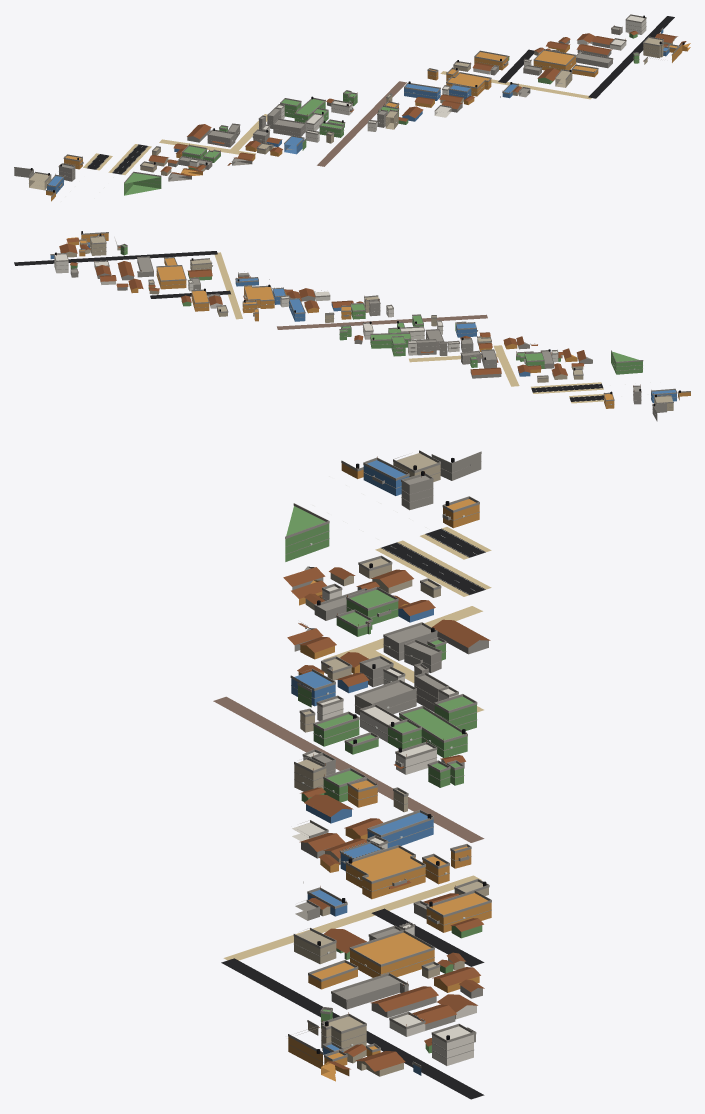
File: zone_t4_3.glb
3 views of the same model, one above another, from view 1: azimuth 30°, elevation 25°; view 2: azimuth 150°, elevation 25°; view 3: azimuth 270°, elevation 25° (orthographic). The views are drawn at different scales.
Parts seen in each view (by area): view 1: parapet_t4_3, bld_beton_t4_3-col, toit_tole_t4_3, bld_peinture_ocre_t4_3-col, bld_peinture_vert_t4_3-col, bld_peinture_ecaillee_t4_3-col, bld_peinture_blanc_t4_3-col, bld_peinture_bleu_t4_3-col, route_residential_bitume_t4_3, route_residential_terre_t4_3, route_residential_paves_t4_3, bandeau_t4_3 (+2 smaller); view 2: parapet_t4_3, toit_tole_t4_3, bld_beton_t4_3-col, bld_peinture_ocre_t4_3-col, bld_peinture_vert_t4_3-col, bld_peinture_ecaillee_t4_3-col, bld_peinture_blanc_t4_3-col, bld_peinture_bleu_t4_3-col, route_residential_terre_t4_3, route_residential_bitume_t4_3, route_residential_paves_t4_3, bandeau_t4_3 (+2 smaller); view 3: parapet_t4_3, bld_peinture_ocre_t4_3-col, toit_tole_t4_3, bld_peinture_vert_t4_3-col, bld_beton_t4_3-col, bld_peinture_ecaillee_t4_3-col, bld_peinture_blanc_t4_3-col, bld_peinture_bleu_t4_3-col, route_residential_bitume_t4_3, route_residential_terre_t4_3, route_residential_paves_t4_3, route_secondary_bitume_t4_3 (+2 smaller).
Boxes of the visible parts, <box> form: parapet_t4_3: <box>14,14,682,197</box>; bld_beton_t4_3-col: <box>14,27,622,181</box>; toit_tole_t4_3: <box>148,31,686,176</box>; bld_peinture_ocre_t4_3-col: <box>46,43,690,201</box>; bld_peinture_vert_t4_3-col: <box>124,33,639,195</box>; bld_peinture_ecaillee_t4_3-col: <box>29,38,674,190</box>; bld_peinture_blanc_t4_3-col: <box>189,15,646,166</box>; bld_peinture_bleu_t4_3-col: <box>47,29,669,193</box>; route_residential_bitume_t4_3: <box>498,16,674,98</box>; route_residential_terre_t4_3: <box>159,71,591,154</box>; route_residential_paves_t4_3: <box>317,81,406,166</box>; bandeau_t4_3: <box>14,22,681,191</box>; parapet_t4_3: <box>50,232,690,413</box>; toit_tole_t4_3: <box>59,237,586,376</box>; bld_beton_t4_3-col: <box>70,257,666,421</box>; bld_peinture_ocre_t4_3-col: <box>66,233,690,408</box>; bld_peinture_vert_t4_3-col: <box>70,245,642,374</box>; bld_peinture_ecaillee_t4_3-col: <box>60,236,673,411</box>; bld_peinture_blanc_t4_3-col: <box>54,254,558,362</box>; bld_peinture_bleu_t4_3-col: <box>50,243,676,402</box>; route_residential_terre_t4_3: <box>214,252,519,386</box>; route_residential_bitume_t4_3: <box>14,251,230,298</box>; route_residential_paves_t4_3: <box>277,314,487,329</box>; bandeau_t4_3: <box>54,237,677,415</box>; parapet_t4_3: <box>285,450,491,1068</box>; bld_peinture_ocre_t4_3-col: <box>288,463,491,1081</box>; toit_tole_t4_3: <box>283,567,490,1071</box>; bld_peinture_vert_t4_3-col: <box>285,506,482,1053</box>; bld_beton_t4_3-col: <box>292,454,488,1042</box>; bld_peinture_ecaillee_t4_3-col: <box>294,453,488,1076</box>; bld_peinture_blanc_t4_3-col: <box>292,586,476,1065</box>; bld_peinture_bleu_t4_3-col: <box>291,460,433,1075</box>; route_residential_bitume_t4_3: <box>221,908,484,1099</box>; route_residential_terre_t4_3: <box>223,606,483,960</box>; route_residential_paves_t4_3: <box>213,696,484,842</box>; route_secondary_bitume_t4_3: <box>381,528,485,594</box>.
Bounding box in the file's own units: 525 × 11 × 98.04.
